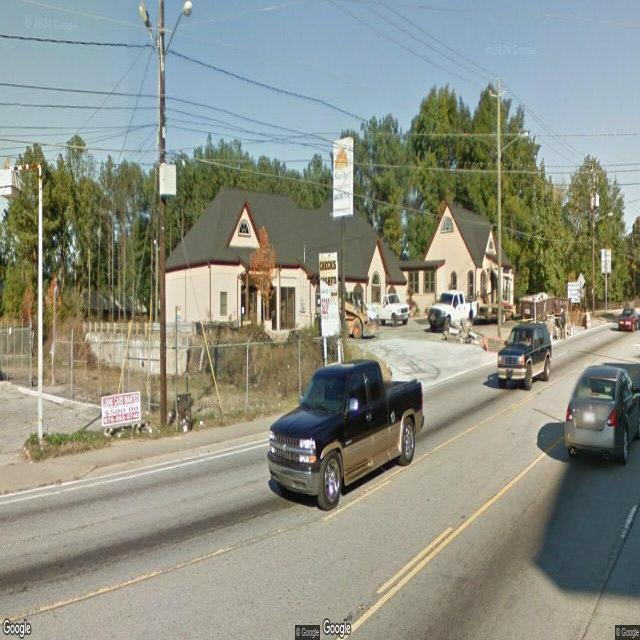trash_can: (178, 393, 192, 432)
